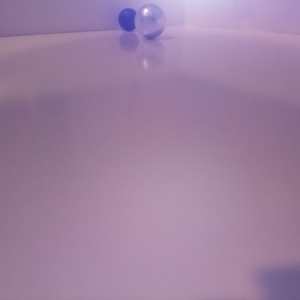alive_ball: (134, 4, 166, 39)
dead_ball: (117, 7, 139, 31)
